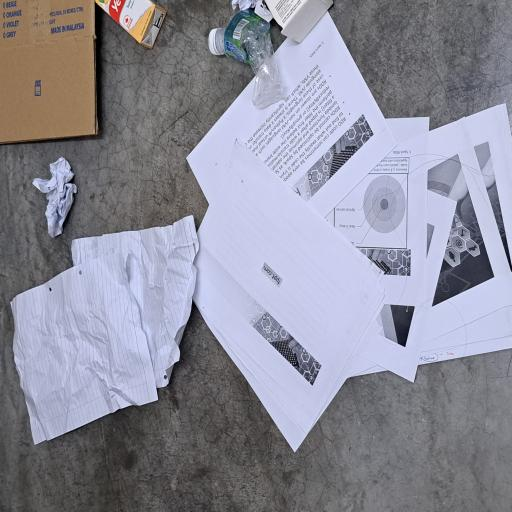cardboard: (276, 0, 384, 133)
drink carton: (348, 125, 384, 224)
paper: (44, 242, 373, 512), (46, 14, 222, 262), (208, 44, 267, 104)
plastic bottle: (300, 290, 376, 380)
plastic bottle cap: (343, 277, 363, 296)
